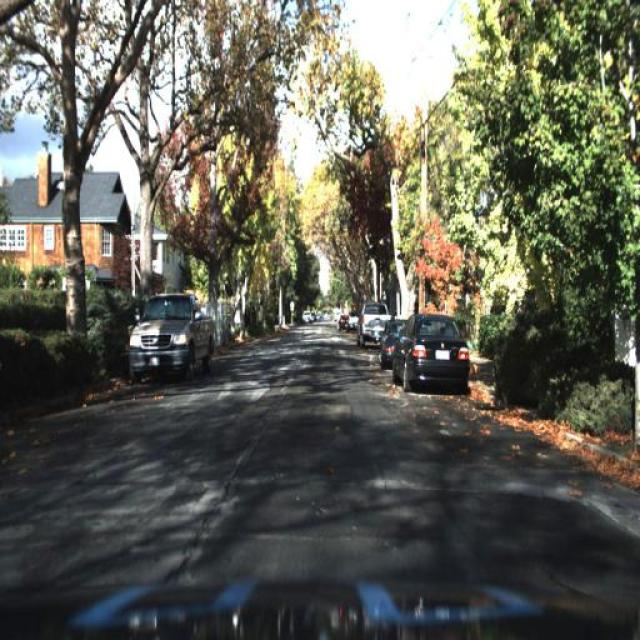car: (123, 296, 211, 390), (390, 312, 475, 388), (352, 292, 392, 350), (362, 303, 382, 352), (380, 320, 396, 374), (337, 314, 348, 335)
